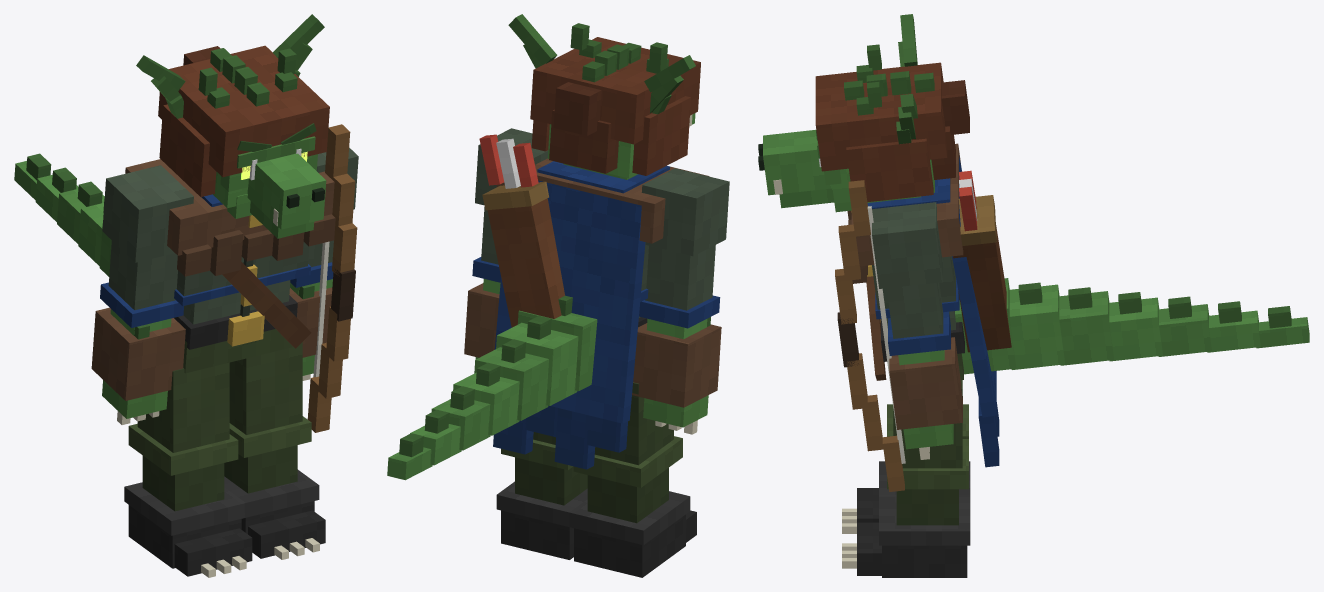
The model's file is lizard_chasseur_v2.glb.
3 renders of one model, left to right at view 1: azimuth 30°, elevation 25°; view 2: azimuth 150°, elevation 25°; view 3: azimuth 270°, elevation 25°, orthographic. The views are drawn at different scales.
Visible parts, largest first — view 1: Head, Torso, LegR, ArmR, LegL, HandL, ArmL, Root; view 2: Torso, Head, ArmR, LegR, LegL, ArmL; view 3: Torso, Head, ArmL, LegL, HandL, LegR, Root.
Part boxes in pixels (x1=…): Head: x1=136, y1=14, x2=329, y2=238; Torso: x1=14, y1=153, x2=335, y2=373; LegR: x1=124, y1=362, x2=252, y2=576; ArmR: x1=91, y1=165, x2=193, y2=424; LegL: x1=224, y1=342, x2=325, y2=558; HandL: x1=307, y1=124, x2=357, y2=432; ArmL: x1=289, y1=147, x2=358, y2=380; Root: x1=201, y1=538, x2=319, y2=577; Torso: x1=387, y1=134, x2=709, y2=480; Head: x1=508, y1=14, x2=700, y2=179; ArmR: x1=632, y1=168, x2=729, y2=434; LegR: x1=569, y1=382, x2=696, y2=577; LegL: x1=496, y1=432, x2=587, y2=559; ArmL: x1=464, y1=128, x2=548, y2=359; Torso: x1=847, y1=143, x2=1309, y2=467; Head: x1=758, y1=14, x2=969, y2=212; ArmL: x1=872, y1=202, x2=962, y2=459; LegL: x1=857, y1=380, x2=970, y2=577; HandL: x1=835, y1=180, x2=905, y2=491; LegR: x1=857, y1=404, x2=970, y2=522; Root: x1=842, y1=508, x2=856, y2=568.
Size of the model in its own units: 0.785 by 1.72 by 1.75.
Materials: 41 (41 with a texture image).
